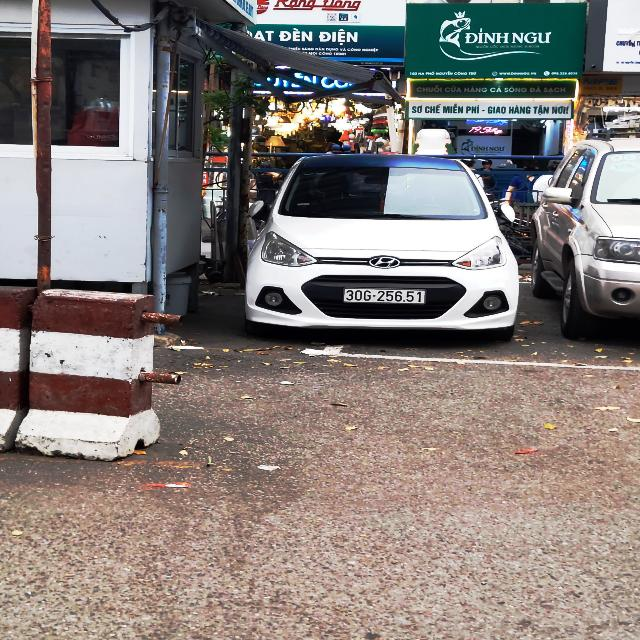license_plate: (342, 286, 432, 308)
